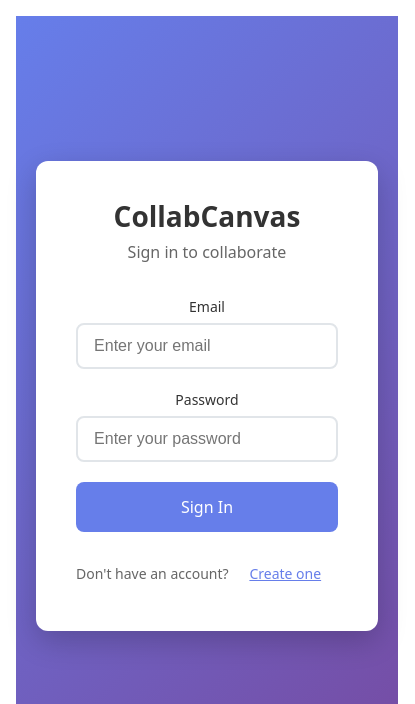
it: AuthGate › should toggle back to login form
Note: Switch to register
Click the button "Create one". click: (285, 573)
box: [233,556,338,591]
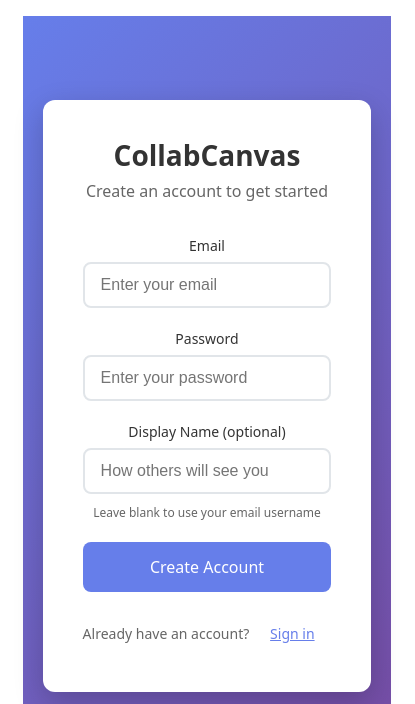
Expected: the text "Create an account to get started" is shown, [83,179,331,203]
Note: Switch back to login
Click the button "Sign in". click: (292, 634)
box: [253,616,331,652]
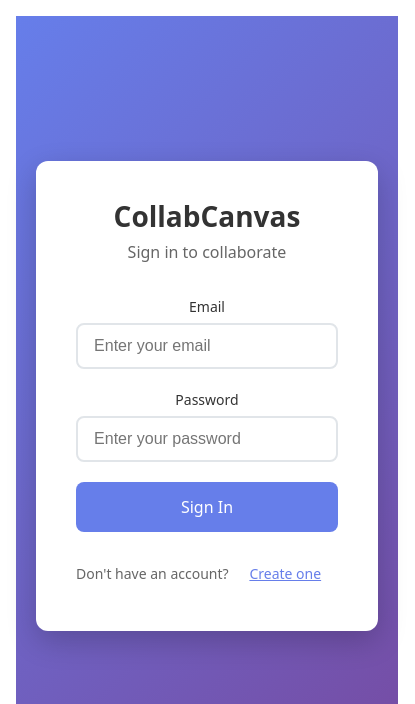
Expected: the text "Sign in to collaborate" is shown, [128,240,286,262]
